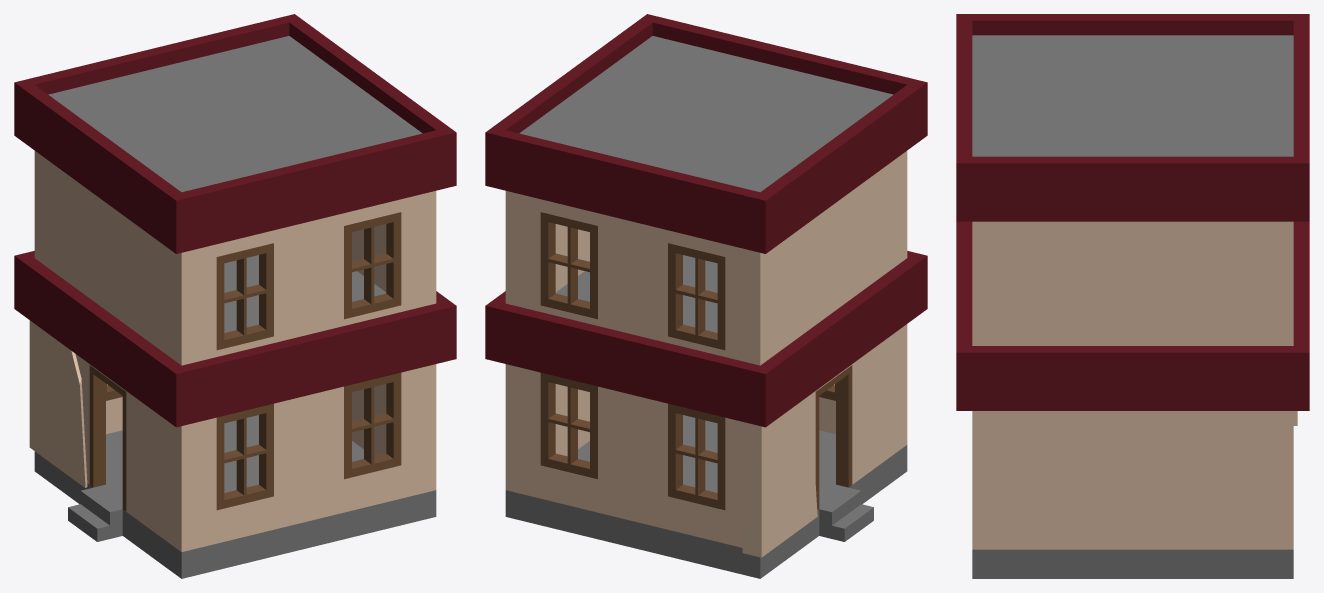
The model's file is 2floor_build_breakable.fbx.
3 views of the same model, side by side, from view 1: azimuth 30°, elevation 25°; view 2: azimuth 150°, elevation 25°; view 3: azimuth 270°, elevation 25° (orthographic). The views are drawn at different scales.
Visible parts, largest first — view 1: Floors, Border, Wall_window, Floor, Wall, Window, Wall_Door_cell.001, Border.004_cell, Border_cell.001, Wall_window.003_cell.001_cell, Wall.002_cell, Border_cell (+34 smaller); view 2: Border, Wall_window, Floors, Wall, Window, Floor, Wall_Door_cell.001, Border.006_cell.001, Border.004_cell, Border.002_cell.001, Border_cell, Border_cell.001 (+18 smaller); view 3: Wall, Border, Floors, Border.001_cell, Floor, Border.005_cell.001, Border.005_cell, Border.001_cell.001, Wall_cell.002, Border.006_cell.001, Border.002_cell, Border.003_cell.001.
Part boxes in pixels (x1,y1,x2,y2): Floors: (48,36,422,332); Border: (15,17,456,427); Wall_window: (106,194,423,547); Floor: (34,415,436,578); Wall: (34,151,436,492); Window: (106,212,401,499); Wall_Door_cell.001: (29,320,87,487); Border.004_cell: (73,126,188,253); Border_cell.001: (99,316,188,426); Wall_window.003_cell.001_cell: (222,227,337,355); Wall.002_cell: (35,206,134,328); Border_cell: (14,256,104,374); Border: (485,17,926,426); Wall_window: (518,194,835,547); Floors: (519,36,893,332); Wall: (505,151,907,415); Window: (540,212,835,510); Floor: (505,415,907,578); Wall_Door_cell.001: (742,400,817,557); Border.006_cell.001: (626,162,759,250); Border.004_cell: (824,82,927,209); Border.002_cell.001: (623,349,757,424); Border_cell: (753,312,855,427); Border_cell.001: (838,252,927,361); Wall: (972,221,1293,549); Border: (956,14,1309,410); Floors: (972,35,1293,156); Border.001_cell: (956,346,1309,410); Floor: (972,549,1293,578); Border.005_cell.001: (1137,156,1309,221); Border.005_cell: (956,156,1141,221); Border.001_cell.001: (1244,361,1309,410); Wall_cell.002: (1203,445,1293,549); Border.006_cell.001: (1293,20,1309,86); Border.002_cell: (1293,280,1309,345); Border.003_cell.001: (956,221,972,291).
Size of the model in its own units: 460 by 580 by 440.
